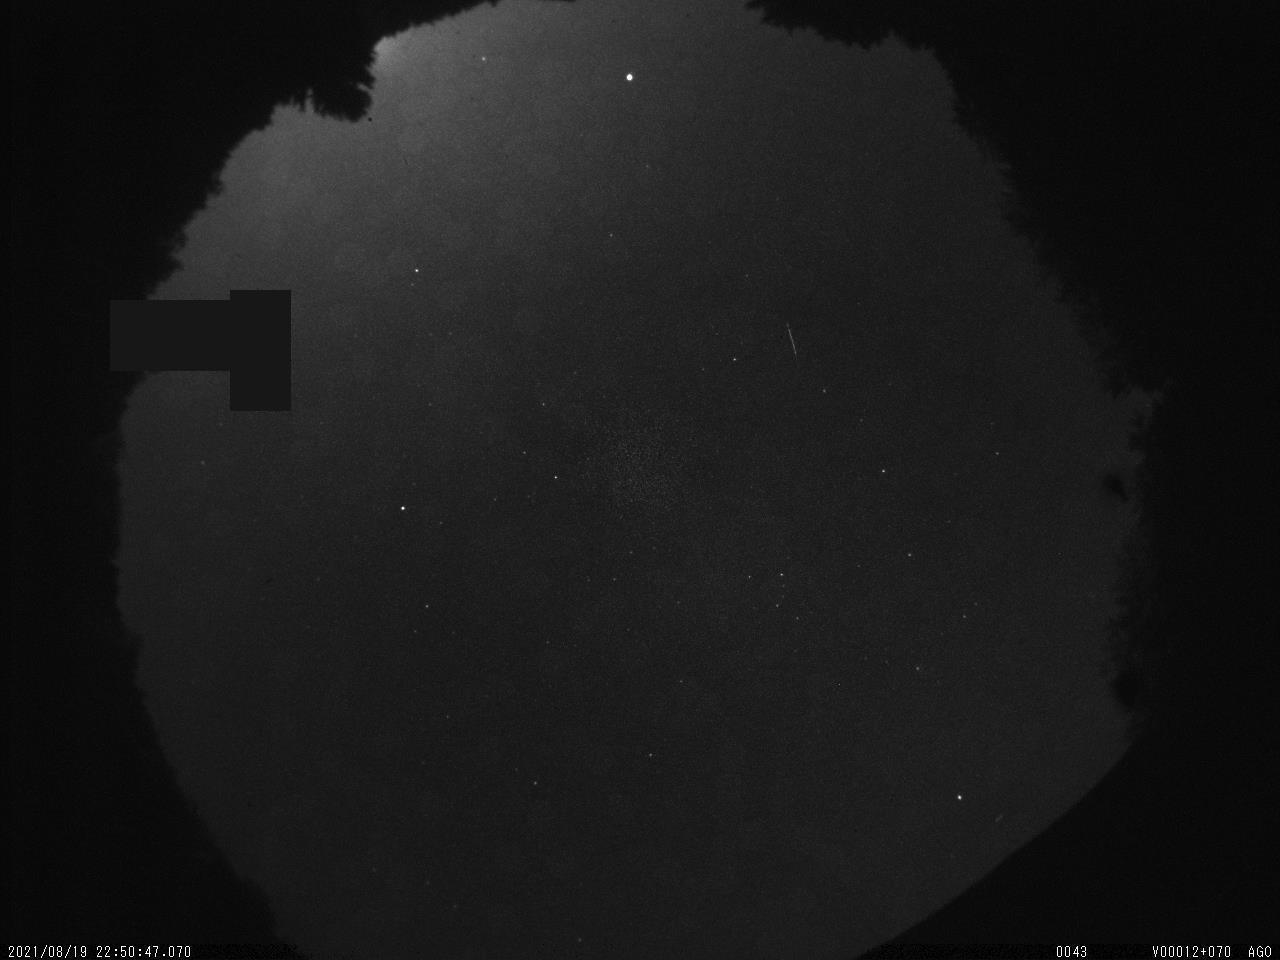Meteor: (780, 317, 803, 365)
